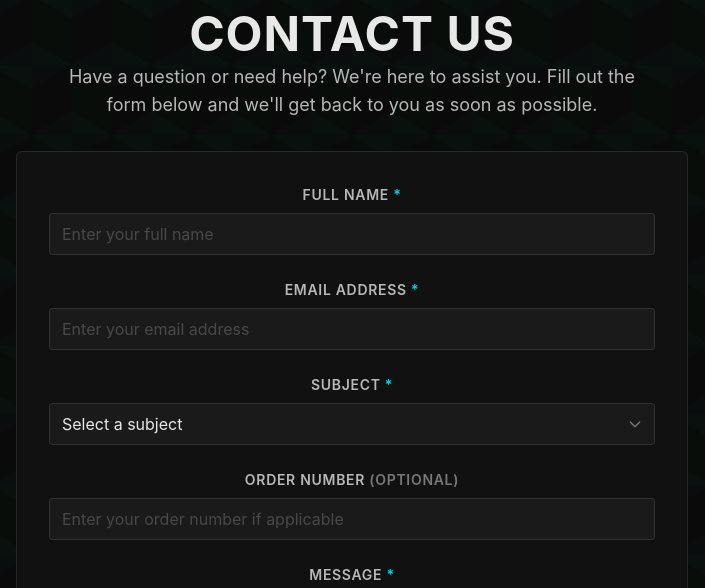
Test: ContactUsPage › Form validation › shows validation error for empty email
This screenshot has width=705, height=588.
Type "a" into the field labelled "Email Address *".
click(352, 329); type("a")  # box [49,308,655,350]
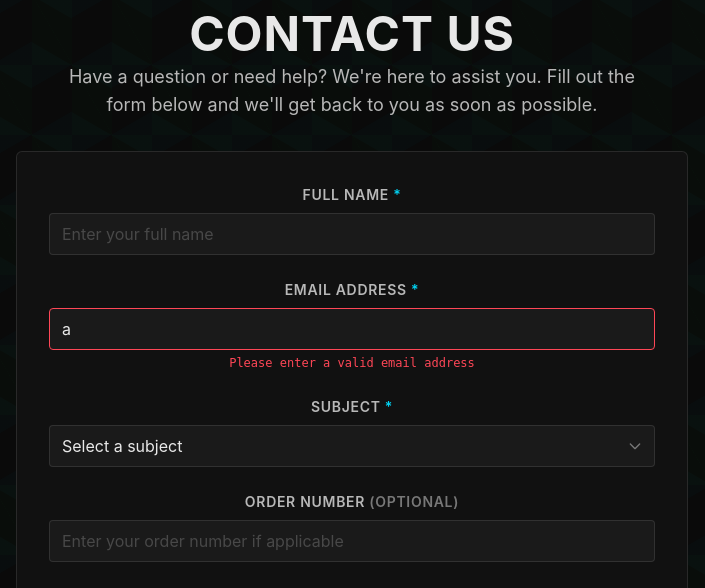
Clear the field labelled "Email Address *" at (352, 329), box [49,308,655,350]
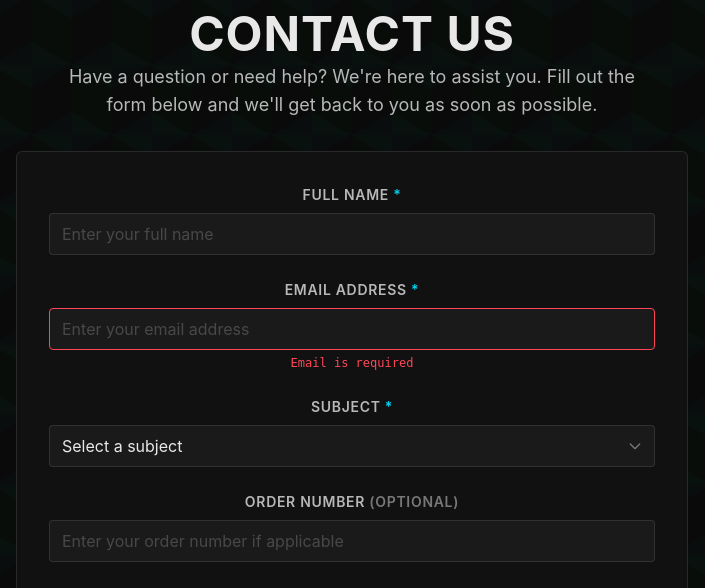
Check: the text "Email is required" is shown, box [291,356,413,370]
